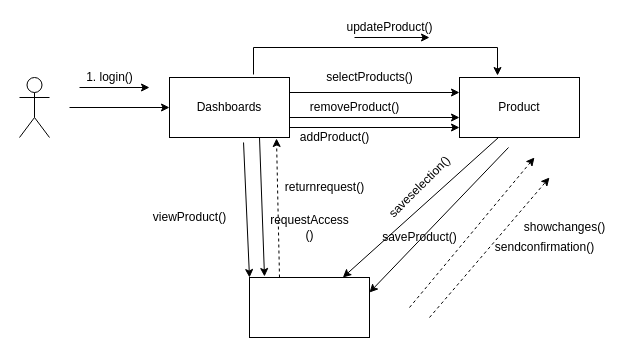
Image size: 632x355. Some labels were removed from this diagram. Each missing label, with the box of its shape:
Admin: (18, 76, 50, 138)
Database: (248, 276, 370, 338)
